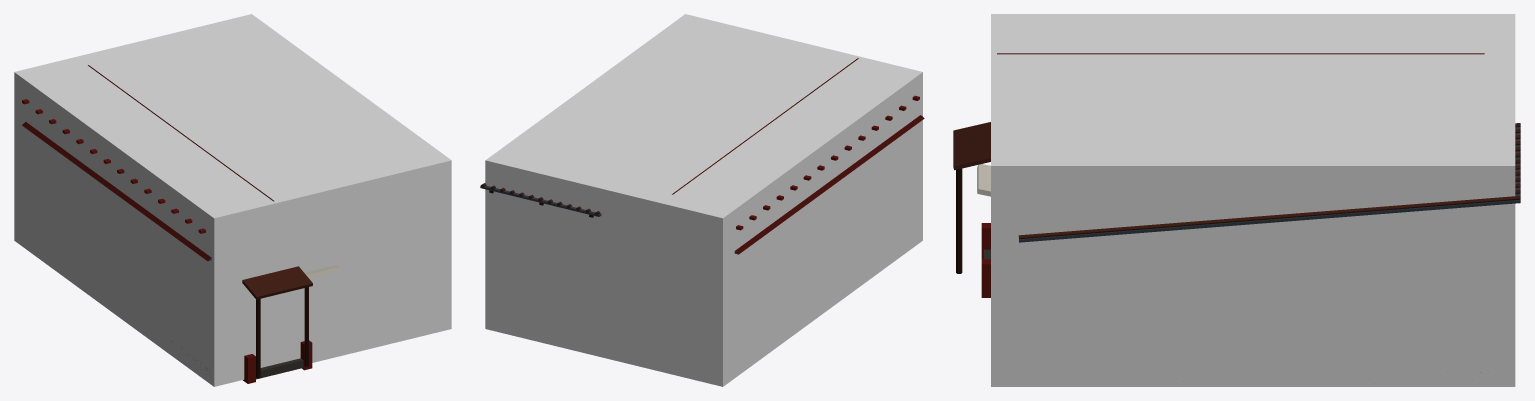
Rendered from K06_slum_cluster.glb.
3 views of the same model, side by side, from view 1: azimuth 30°, elevation 25°; view 2: azimuth 150°, elevation 25°; view 3: azimuth 270°, elevation 25° (orthographic). The views are drawn at different scales.
Visible parts, largest first — view 1: COL_Main, LOD0; view 2: COL_Main, LOD0; view 3: COL_Main, LOD0.
Part boxes in pixels (x1=…): COL_Main: x1=14, y1=14, x2=451, y2=386; LOD0: x1=22, y1=65, x2=339, y2=383; COL_Main: x1=485, y1=14, x2=922, y2=386; LOD0: x1=480, y1=58, x2=924, y2=254; COL_Main: x1=991, y1=14, x2=1515, y2=386; LOD0: x1=953, y1=53, x2=1520, y2=297.
Size of what is drawn, in the model's own units: 6.1 by 4.06 by 9.31.
